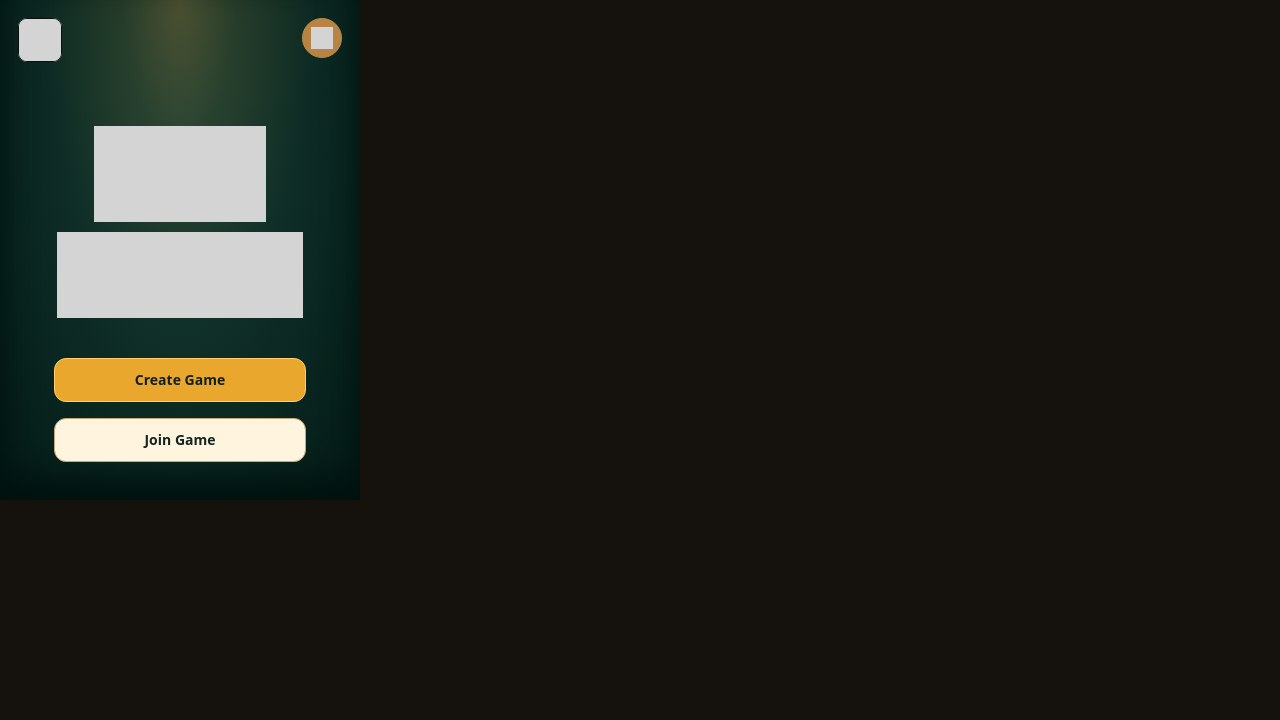
Scenario: requires refresh after cancellation compatibility failure {"kind":"protocol","code":"PROTOCOL_MISMATCH"}
Step 1. Click the button "Create Game" → (180, 380), box [54,358,306,402]
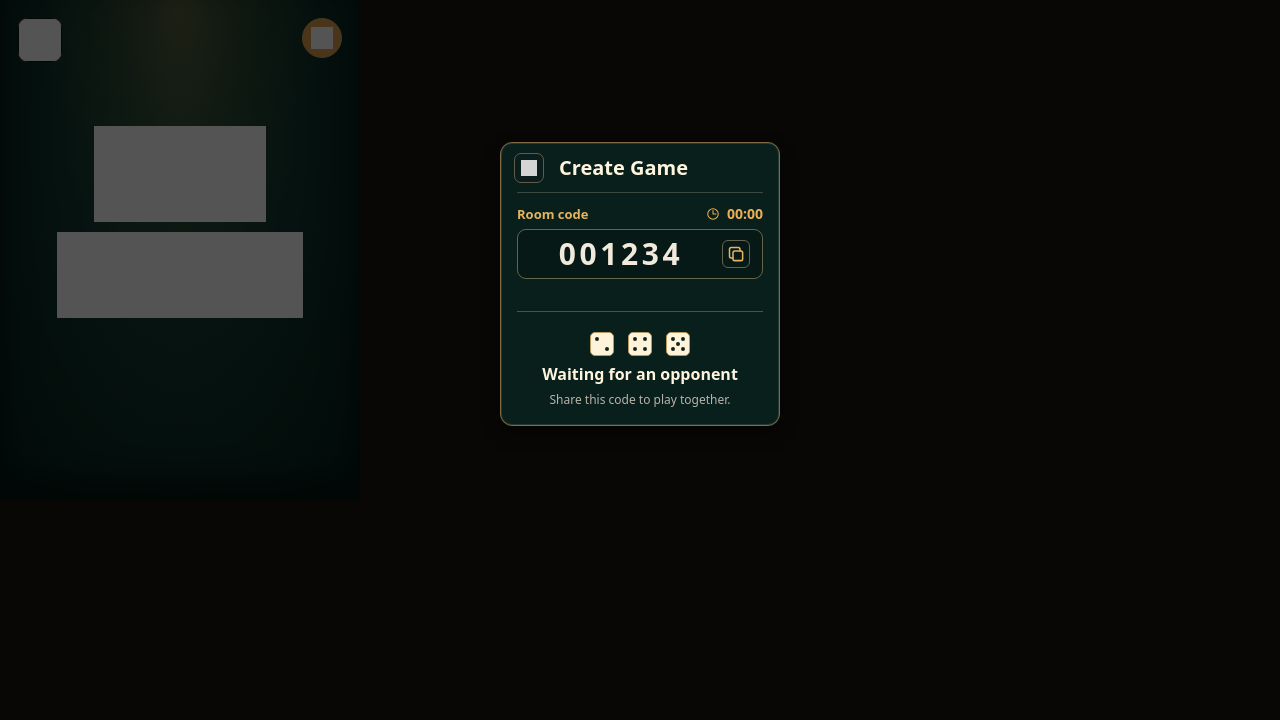
Expected: the text "001234" is shown, [559,233,683,274]
Step 2. Click the button named "Cancel" → (529, 168), box [507,146,551,190]
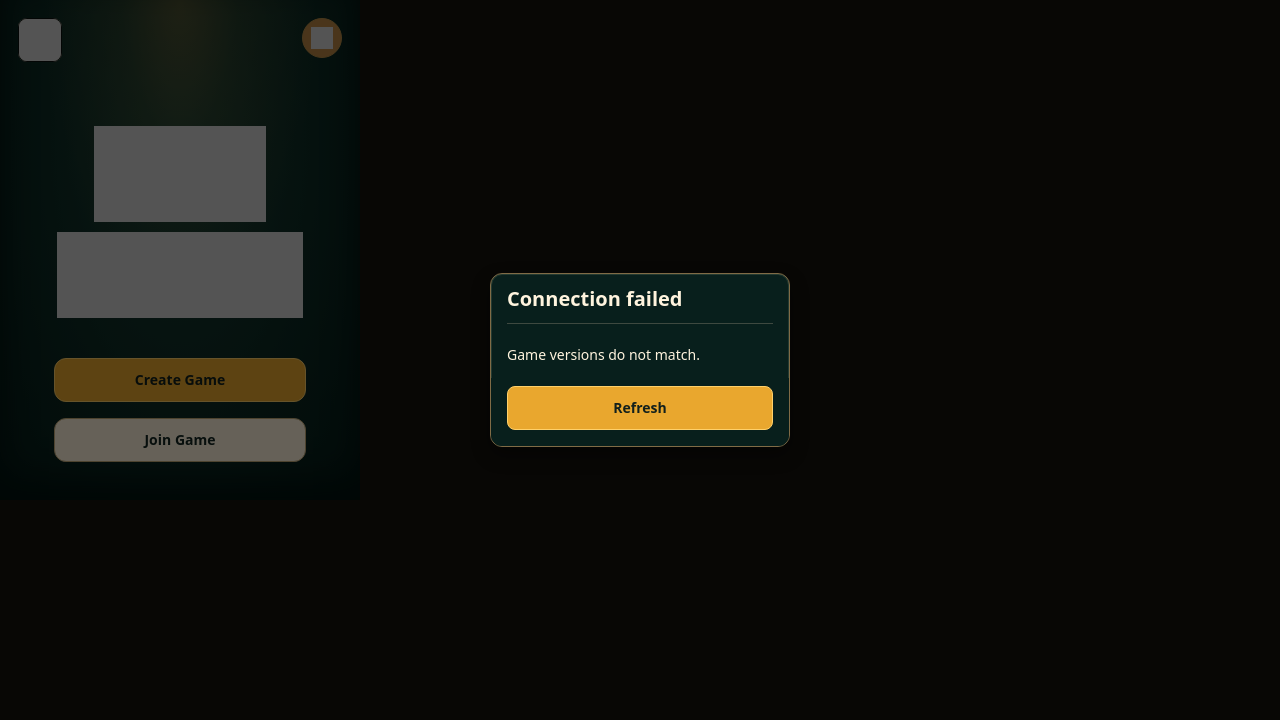
Expected: the dialog "Connection failed" is shown
Expected: the button "Refresh" is shown, [507,386,773,430]
